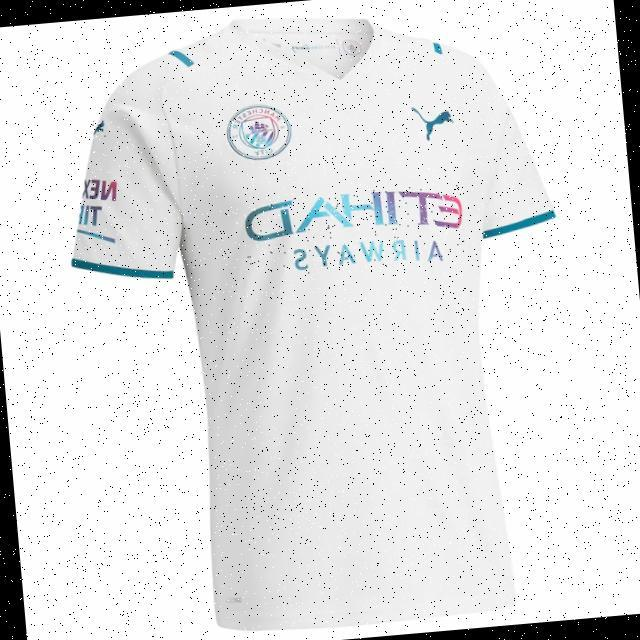Etihad Airways: (243, 182, 468, 278)
Puma: (410, 102, 456, 141), (92, 120, 107, 139)
